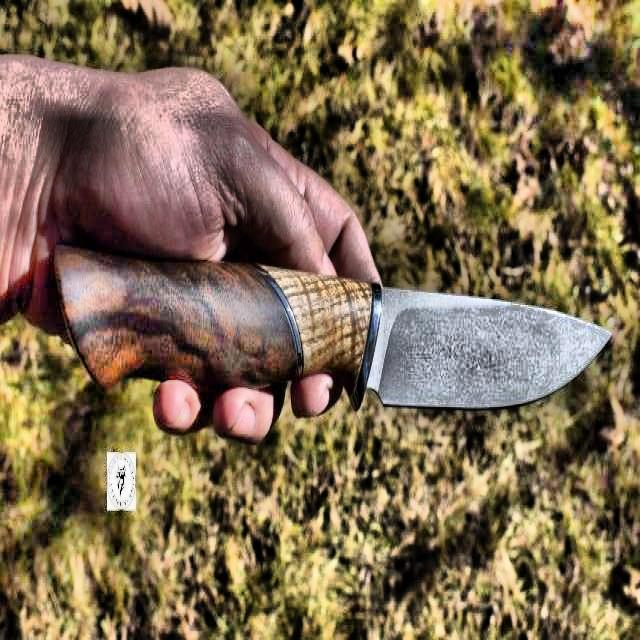knife: (54, 249, 610, 413)
